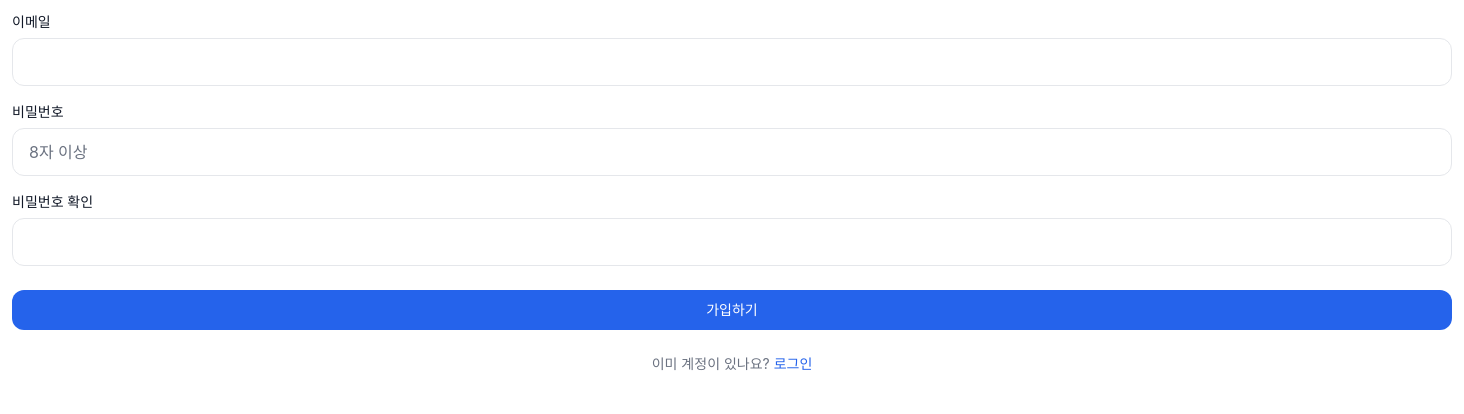
it: SignupForm › 액션이 필드별 오류를 돌려주면 signup_failed 이벤트를 검증 실패로 보낸다
The image size is (1464, 414).
In the field labelled "이메일": (732, 62) [12,38,1452,86], type "user@example.com"
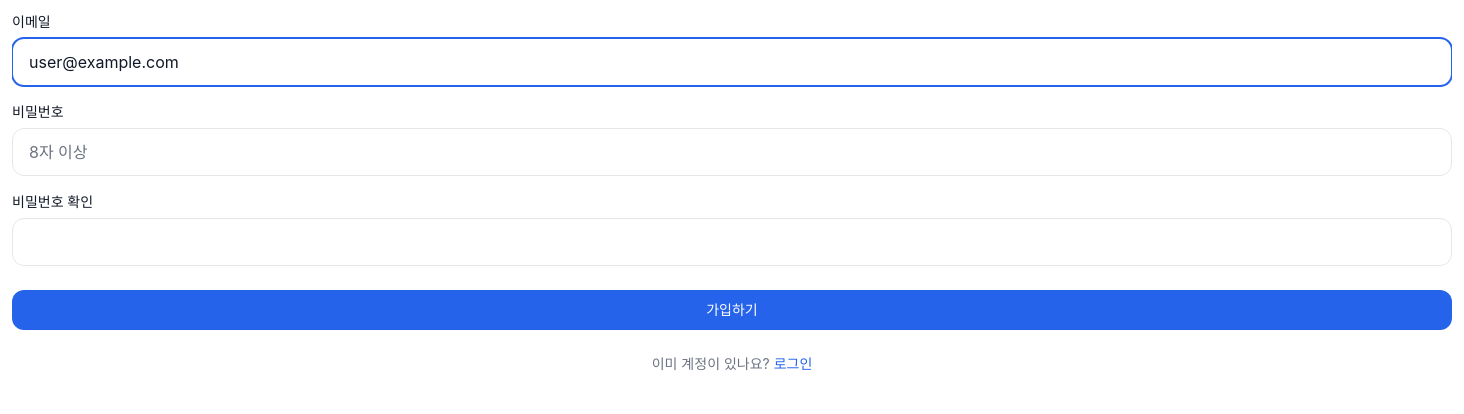
In the password field labelled "비밀번호": (732, 152) [12,128,1452,176], type "password123"
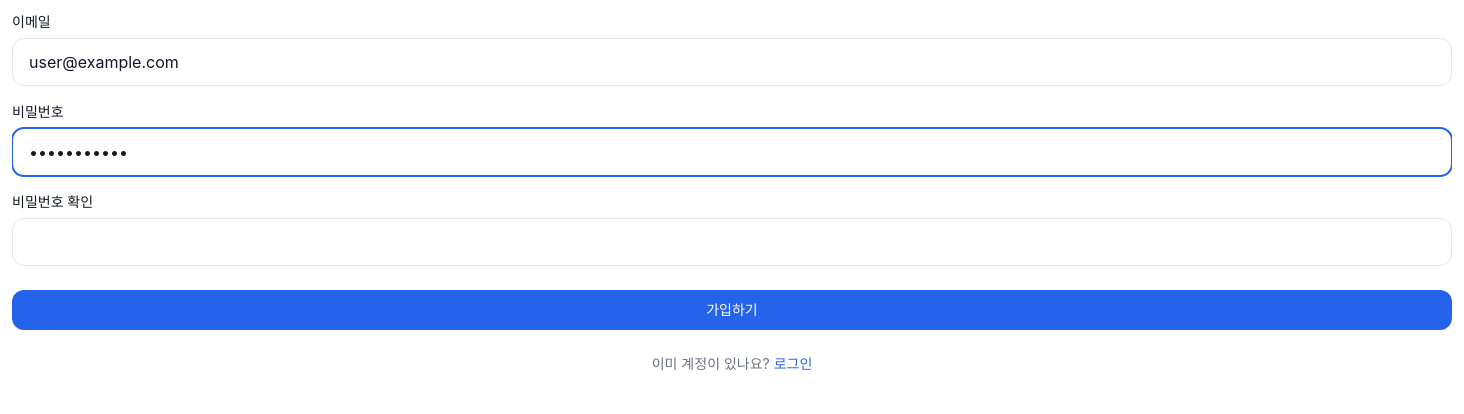
In the password field labelled "비밀번호 확인": (732, 242) [12,218,1452,266], type "password124"
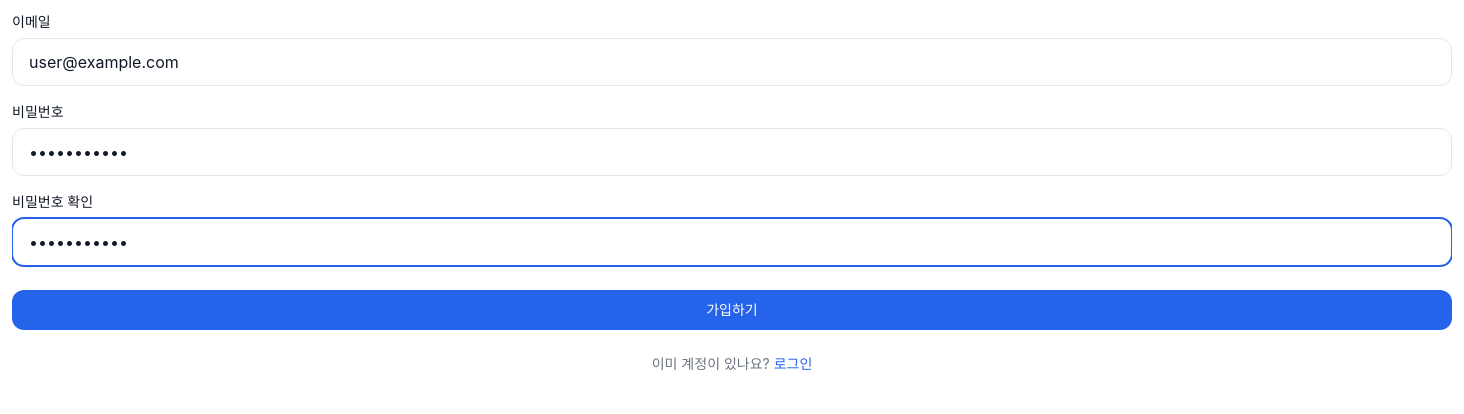
Click the button "가입하기": (732, 310) [12,290,1452,330]
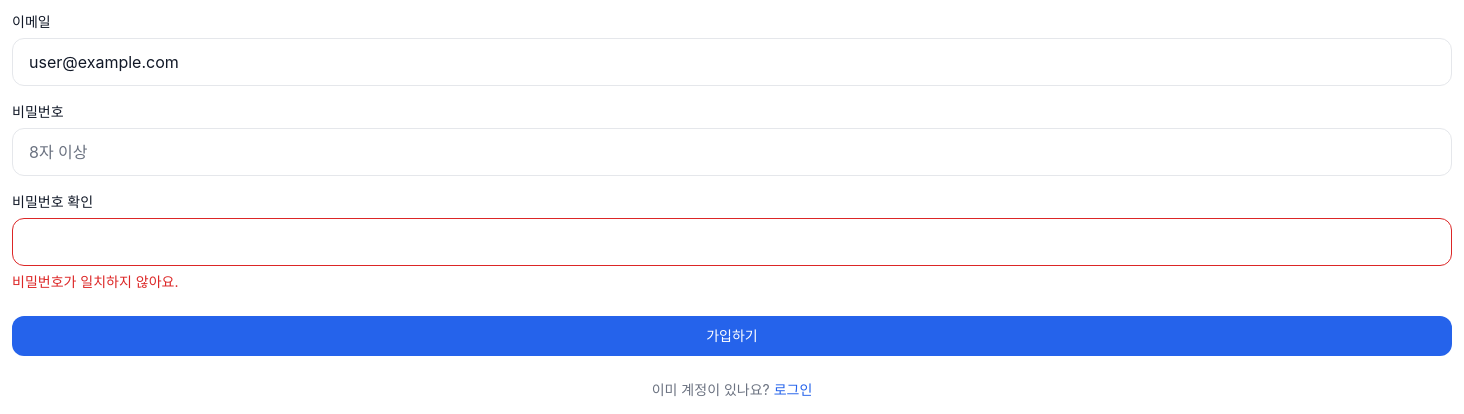
Check: the text "비밀번호가 일치하지 않아요." is shown, box [12,273,178,290]
